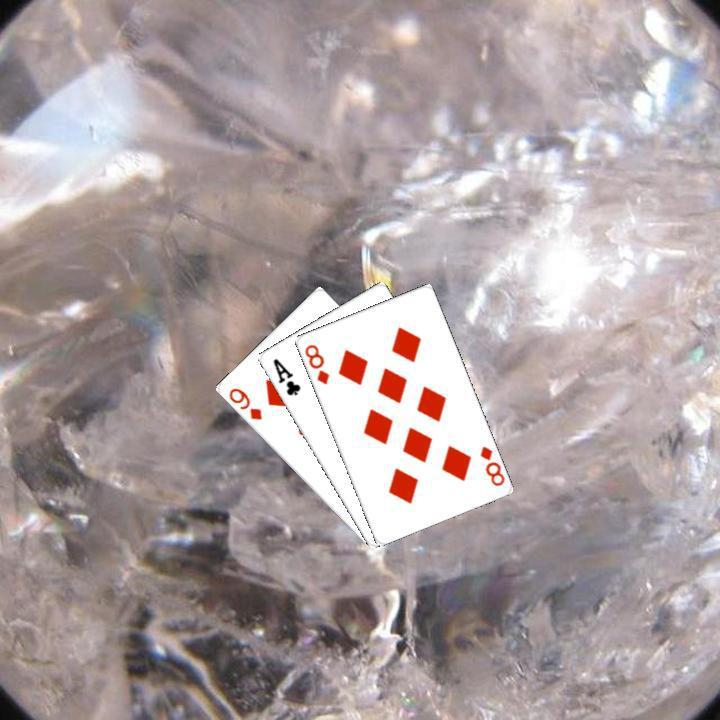8: (300, 340, 331, 387), (475, 441, 506, 488)
9: (224, 383, 264, 422)
A: (268, 354, 302, 398)
